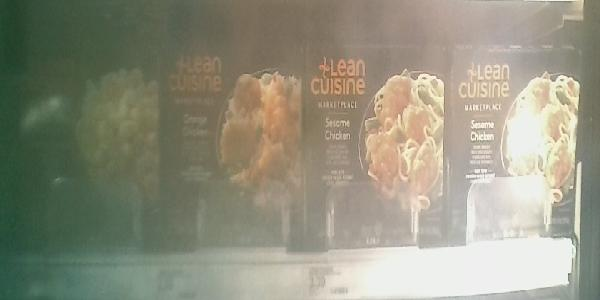pizza1: (7, 54, 160, 254), (162, 54, 307, 258), (309, 56, 448, 251), (454, 48, 577, 239)
